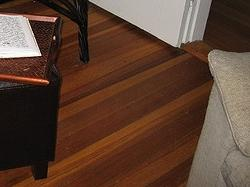chair: (0, 0, 114, 62)
